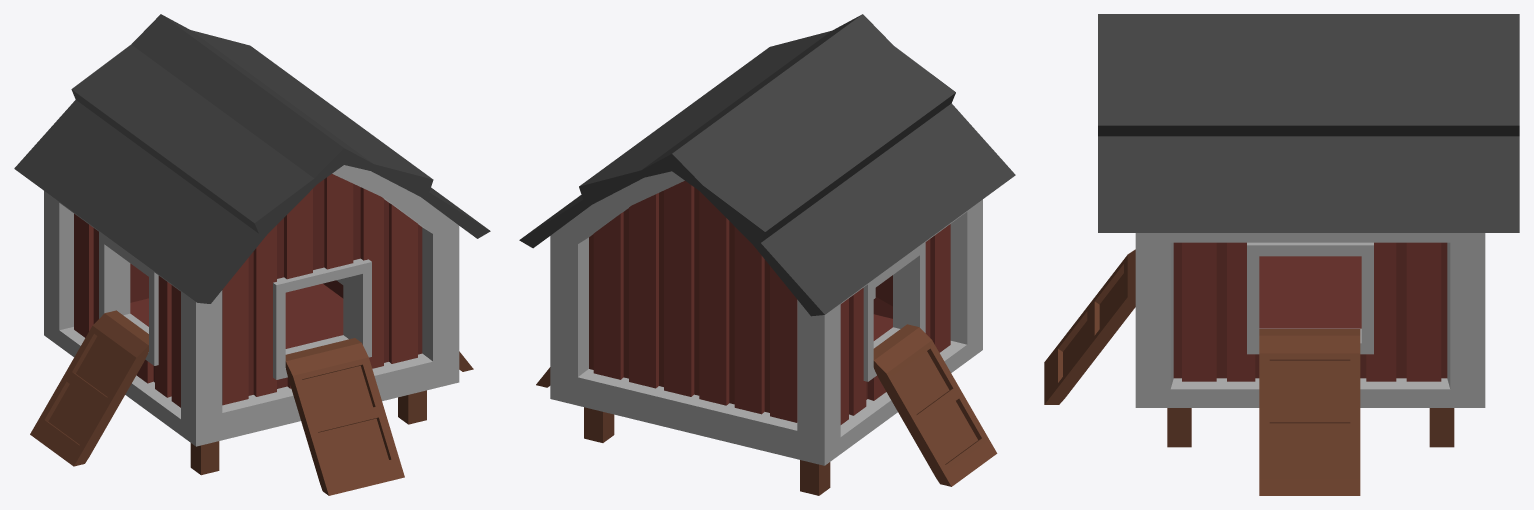
File: ChickenCoop.glb
The picture shows the model from 3 angles, left to right: view 1: azimuth 30°, elevation 25°; view 2: azimuth 150°, elevation 25°; view 3: azimuth 270°, elevation 25°; orthographic projection. The views are drawn at different scales.
Visible parts, largest first — view 1: ChickenCoop_Merged; view 2: ChickenCoop_Merged; view 3: ChickenCoop_Merged.
Boxes of the visible parts, left/top/right/bottom form: ChickenCoop_Merged: left=14, top=14, right=490, bottom=495; ChickenCoop_Merged: left=519, top=14, right=1015, bottom=495; ChickenCoop_Merged: left=1044, top=14, right=1519, bottom=495.
Size of the model in its own units: 2.41 by 1.85 by 2.15.
